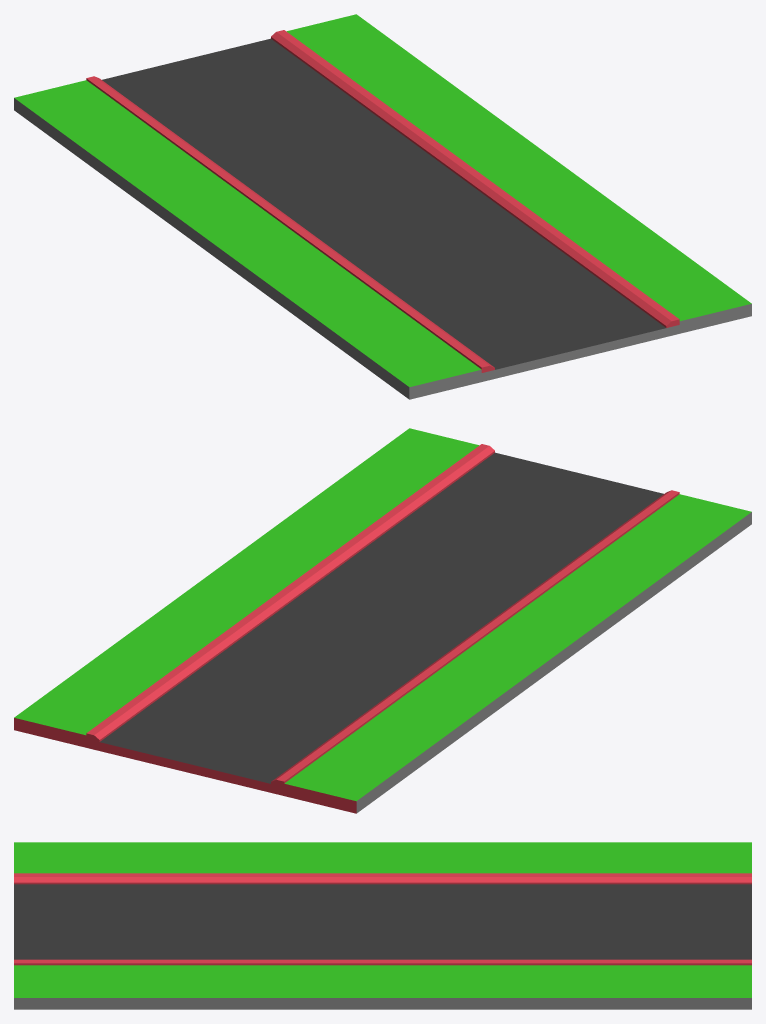
The model's file is straight_short.fbx.
The picture shows the model from 3 angles, top to bottom: view 1: azimuth 30°, elevation 25°; view 2: azimuth 150°, elevation 25°; view 3: azimuth 270°, elevation 25°; orthographic projection. The views are drawn at different scales.
Visible parts, largest first — view 1: straight_short; view 2: straight_short; view 3: straight_short.
Part boxes in pixels (x1,y1,x2,y2): straight_short: [14, 14, 751, 399]; straight_short: [14, 428, 751, 813]; straight_short: [14, 842, 751, 1009].
Size of the model in its own units: 2000 by 80.75 by 4000.
